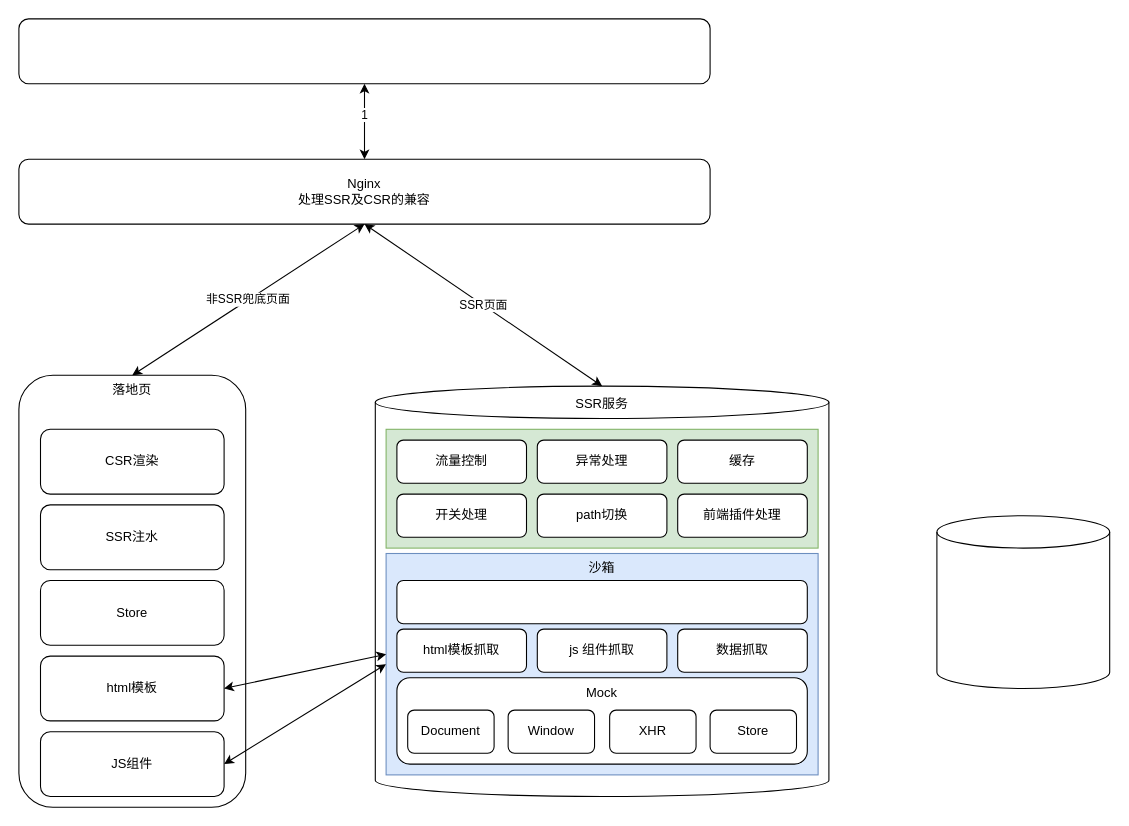
This 1129x826 diagram has some shape labels left out. The shapes that lost their labels are listed below. From the top down, each one's centre as x and y in pixels, then its label:
[364,51]: 浏览器访问
[601,601]: 渲染
[1023,601]: 后台业务接口服务
